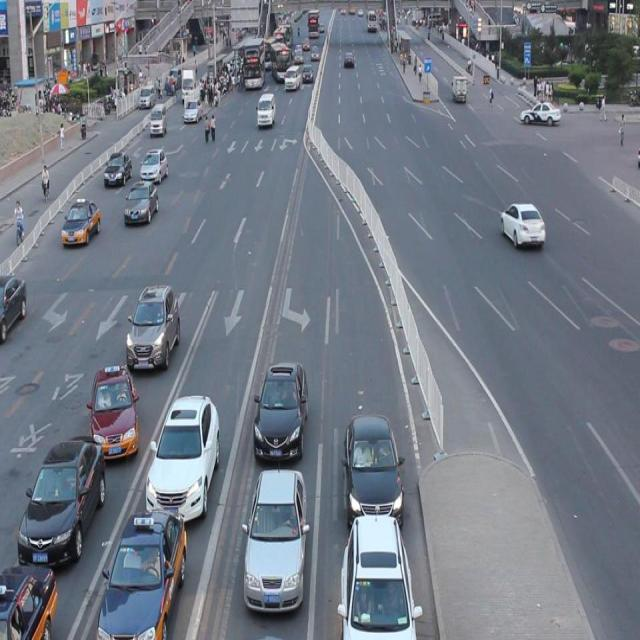car: (94, 507, 188, 640), (18, 432, 106, 569), (338, 509, 417, 640), (144, 389, 221, 522), (244, 466, 308, 614), (343, 408, 404, 526), (252, 358, 309, 462), (125, 280, 181, 369), (89, 362, 140, 458), (0, 560, 56, 640), (60, 196, 102, 248), (499, 201, 545, 245), (1, 273, 27, 340), (123, 180, 158, 224), (140, 145, 169, 183), (105, 150, 131, 188)
